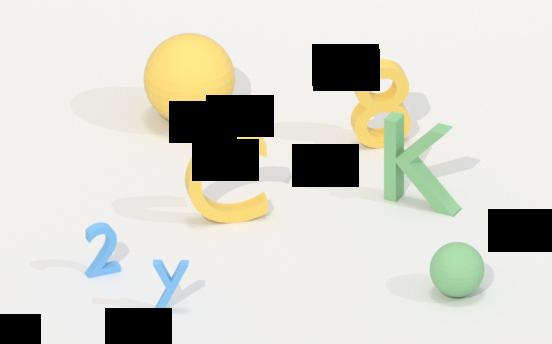2: (80, 220, 127, 280)
8: (345, 61, 414, 153)
Y: (149, 255, 194, 318)
c: (179, 133, 290, 227)
cau: (134, 34, 244, 129), (427, 240, 489, 299)
k: (377, 118, 470, 216)
